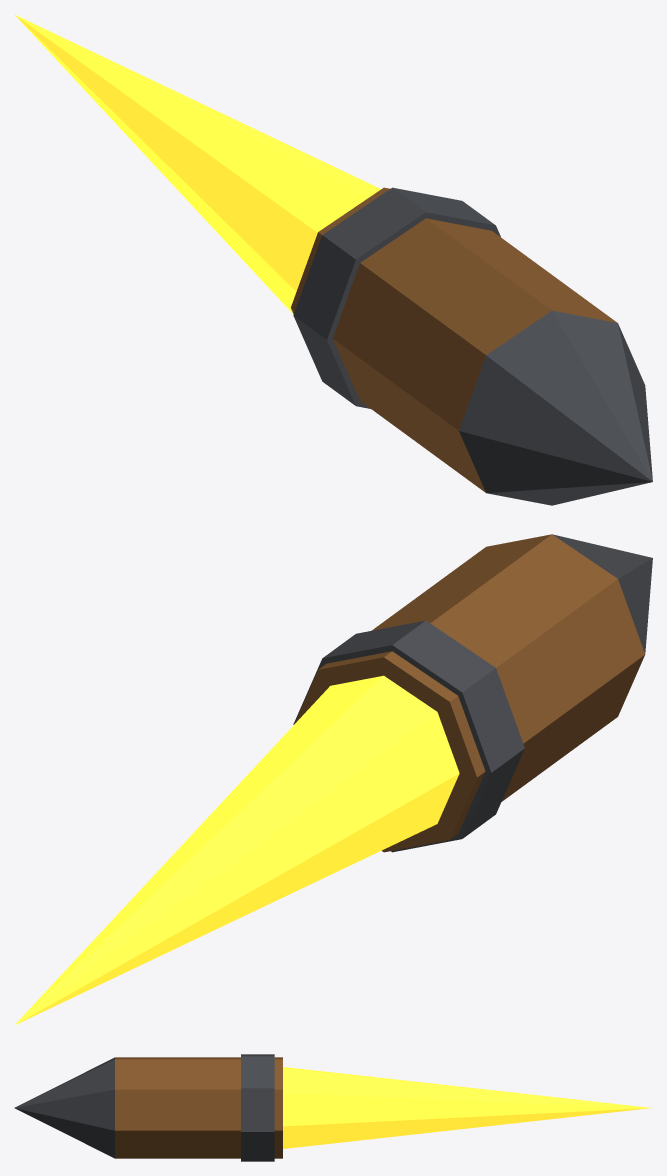
Rendered from projectile_rapid_slug.glb.
The picture shows the model from 3 angles, top to bottom: view 1: azimuth 30°, elevation 25°; view 2: azimuth 150°, elevation 25°; view 3: azimuth 270°, elevation 25°; orthographic projection. The views are drawn at different scales.
Visible parts, largest first — view 1: Body, Tip, Tracer_Trail, Rim; view 2: Tracer_Trail, Body, Rim, Tip; view 3: Tracer_Trail, Body, Tip, Rim.
Boxes of the visible parts, <box> form: Body: <box>291,187,617,492</box>; Tip: <box>459,310,652,505</box>; Tracer_Trail: <box>15,15,380,314</box>; Rim: <box>293,187,500,408</box>; Tracer_Trail: <box>15,675,459,1024</box>; Body: <box>294,534,645,852</box>; Rim: <box>293,620,524,852</box>; Tip: <box>552,534,652,653</box>; Tracer_Trail: <box>283,1067,650,1148</box>; Body: <box>115,1057,282,1158</box>; Tip: <box>14,1057,114,1158</box>; Rim: <box>241,1054,274,1161</box>.
Size of the model in its own units: 0.068 by 0.068 by 0.38.
